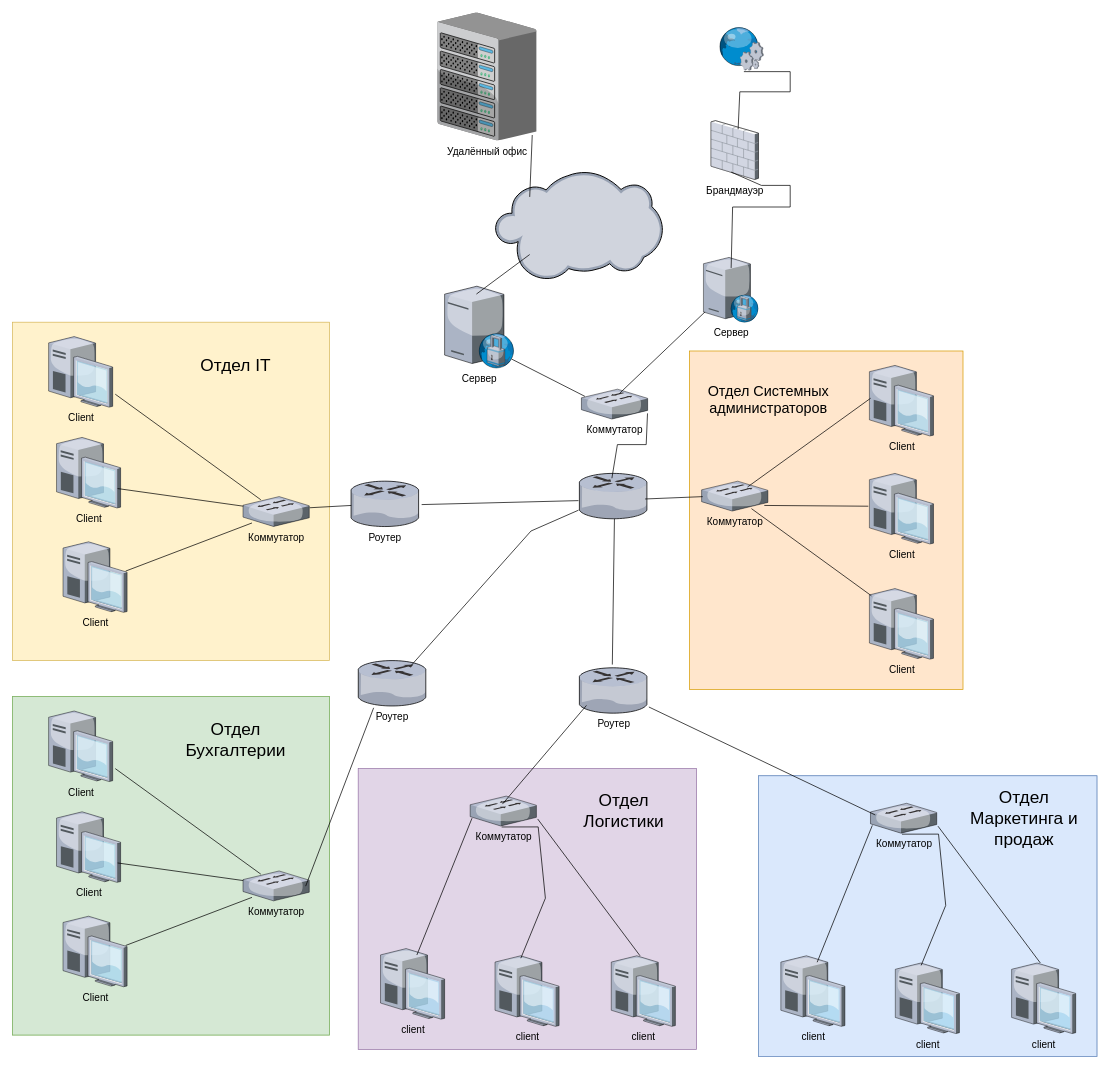
The diagram is 1110 pixels wide and 1069 high, and some of its shapes have lost their labels. Here are the shapes that lost their labels. From the top down, the centre of each, then its label:
At (x=740, y=48): "Интернет".
At (x=578, y=225): "VPN Tunnel".
At (x=613, y=495): "Маршрутизатор".
